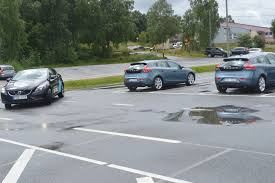car: (214, 51, 275, 93), (1, 67, 66, 106), (123, 58, 196, 90)
